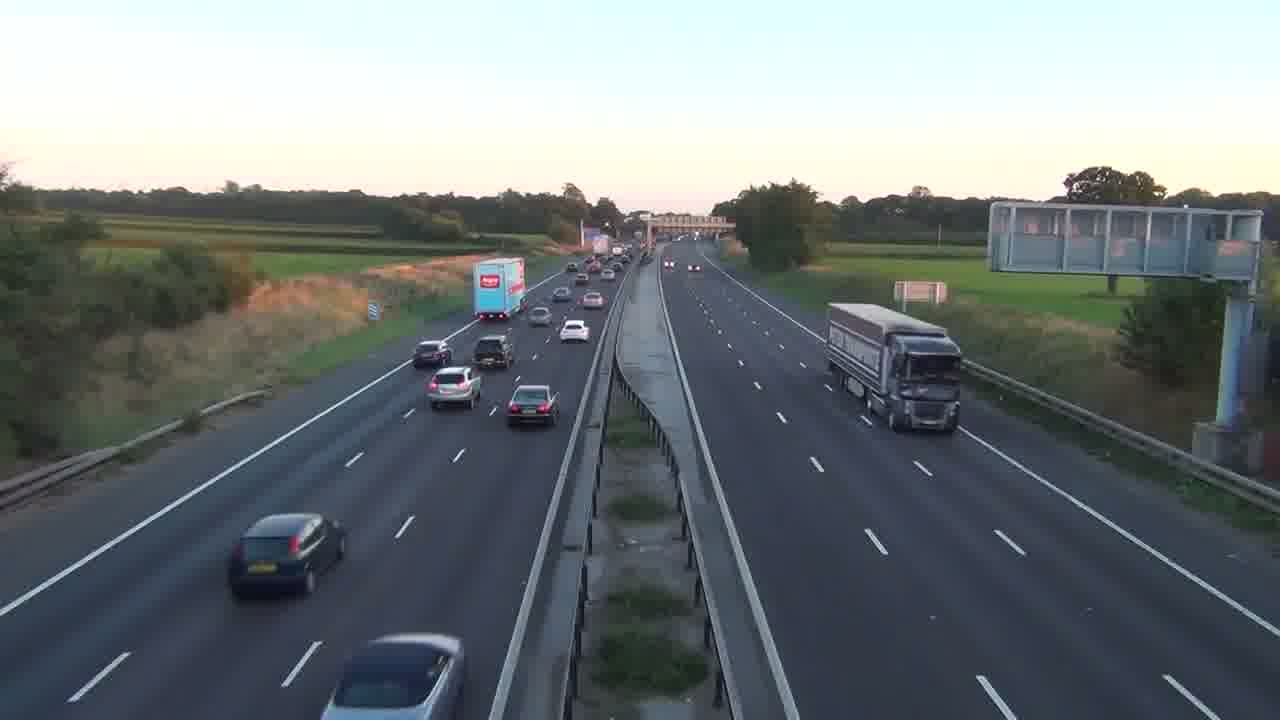car: (321, 631, 467, 720), (227, 511, 347, 600), (505, 383, 561, 428), (413, 339, 450, 370), (577, 289, 607, 310)
truck: (825, 301, 962, 434), (470, 256, 527, 320)
